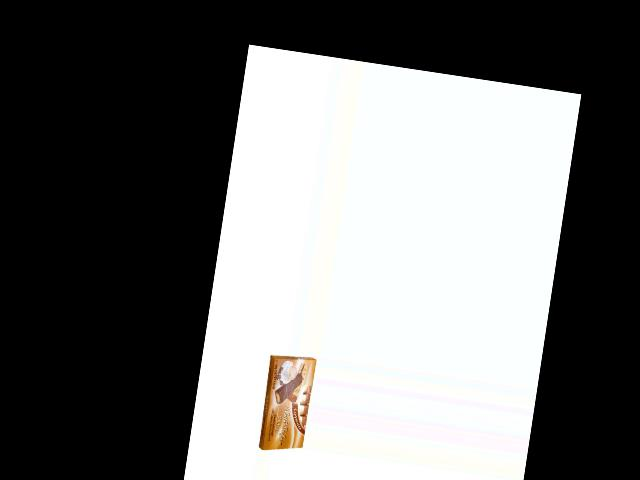chocolate: (256, 351, 317, 458)
